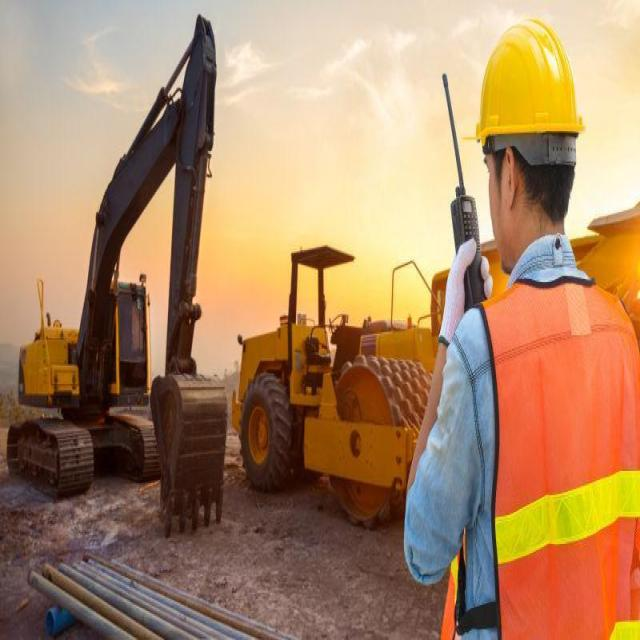Reflective-Jacket: (442, 262, 640, 640)
Safety-Helmet: (472, 9, 588, 156)
